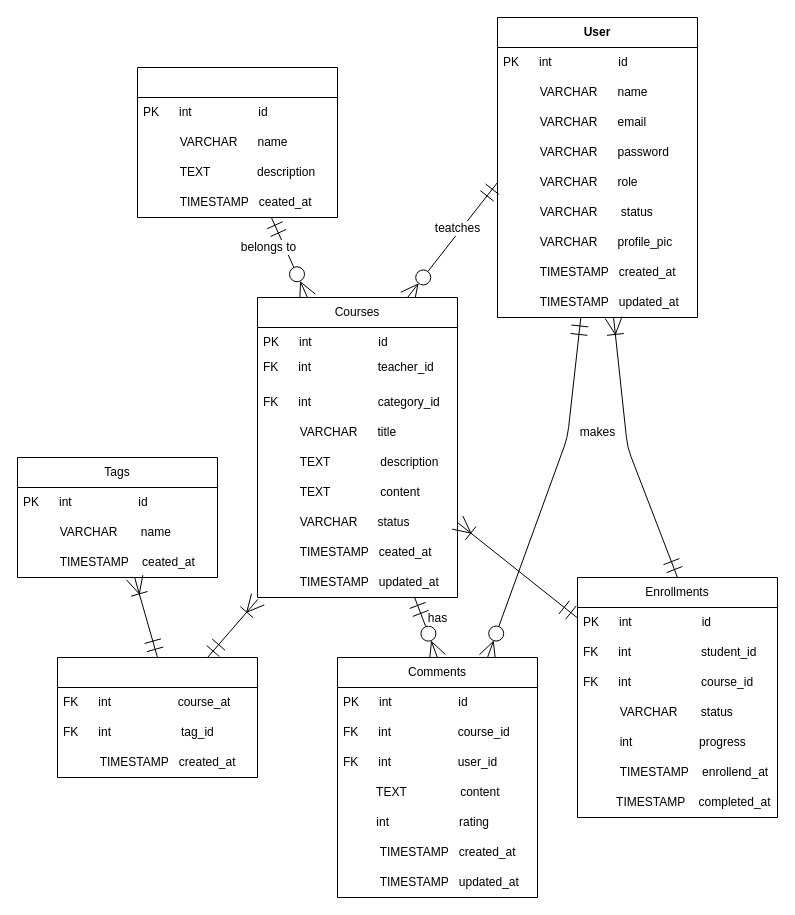
This 795x915 diagram has some shape labels left out. The box of each missing label's shape, as (x1, y1, x2, y2) in pixels:
Categories: (136, 66, 338, 218)
Course_tags: (56, 656, 258, 778)
